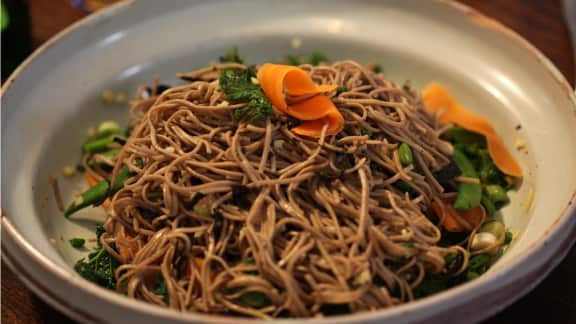Soba: (88, 64, 476, 320)
